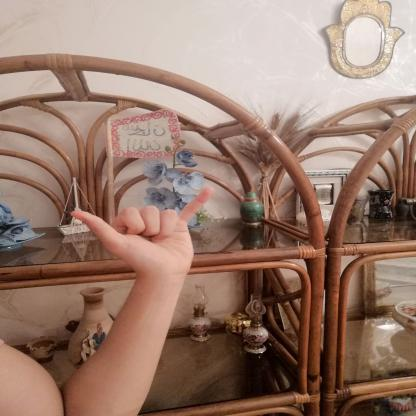YA: (58, 181, 224, 283)
